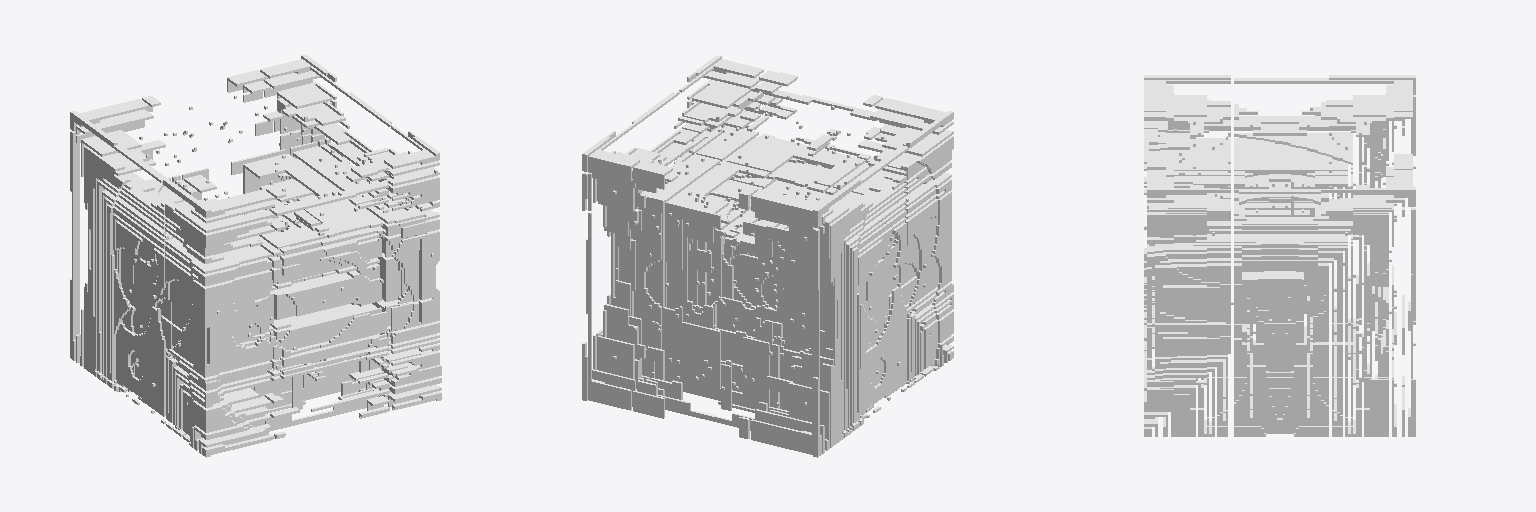
The model's file is rotbaseback2.obj.
3 renders of one model, left to right at view 1: azimuth 30°, elevation 25°; view 2: azimuth 150°, elevation 25°; view 3: azimuth 270°, elevation 25°, orthographic.
Visible parts, largest first — view 1: object 1; view 2: object 1; view 3: object 1.
Part boxes in pixels (x1,y1,x2,y2): object 1: (70, 54, 441, 457); object 1: (582, 55, 953, 457); object 1: (1144, 75, 1415, 436).
Bounding box in the file's own units: 10 × 10 × 10.